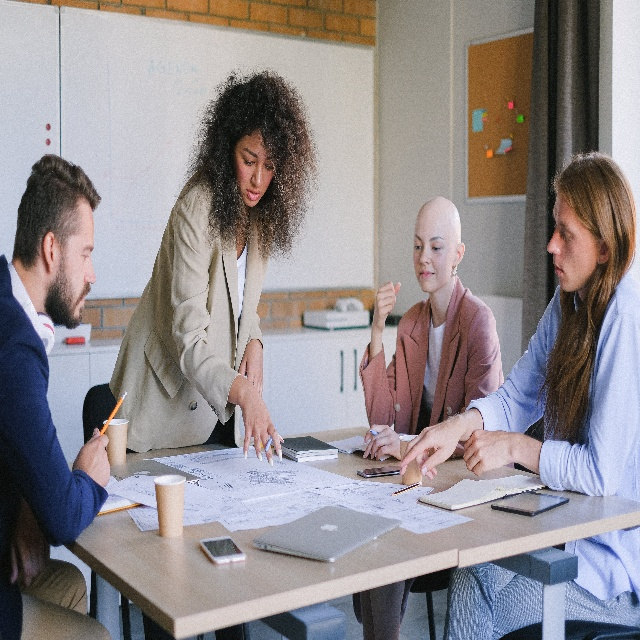Sin_guantes: (399, 412, 464, 480), (240, 383, 283, 469), (465, 424, 515, 482), (9, 525, 52, 586), (75, 430, 110, 487), (363, 425, 400, 470), (370, 281, 400, 330), (243, 348, 266, 398)
